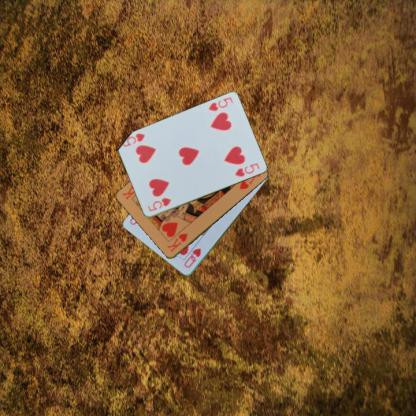5h: (206, 94, 234, 112), (145, 195, 172, 213)
Kh: (164, 231, 189, 254)
Qh: (182, 246, 203, 269)
